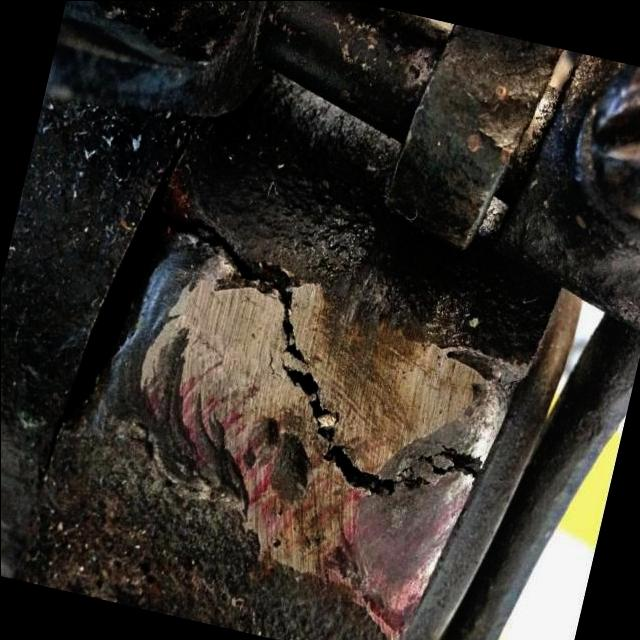defect: (149, 203, 490, 501)
